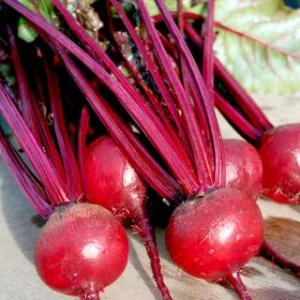beet: (164, 190, 266, 290), (34, 204, 128, 298), (78, 134, 148, 224), (258, 119, 300, 203), (205, 136, 261, 198)
